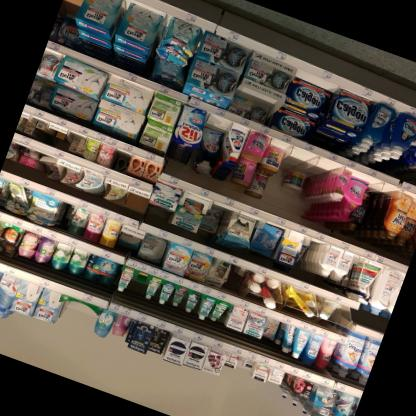empty_space: (276, 144, 327, 177), (62, 295, 100, 331)
